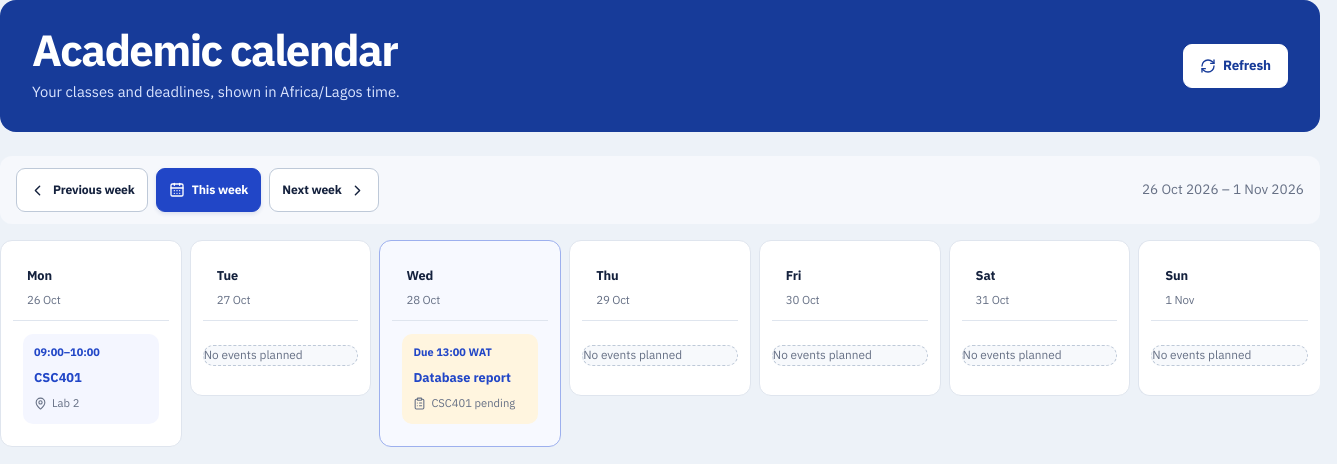
shows recurring classes and deadlines together and navigates weeks
Expected: the link "Database report" is shown, [413, 366, 511, 390]
Expected: the text "Lab 2" is shown, [34, 396, 79, 410]
Click the button "Next week": point(324, 190) [269, 168, 379, 212]
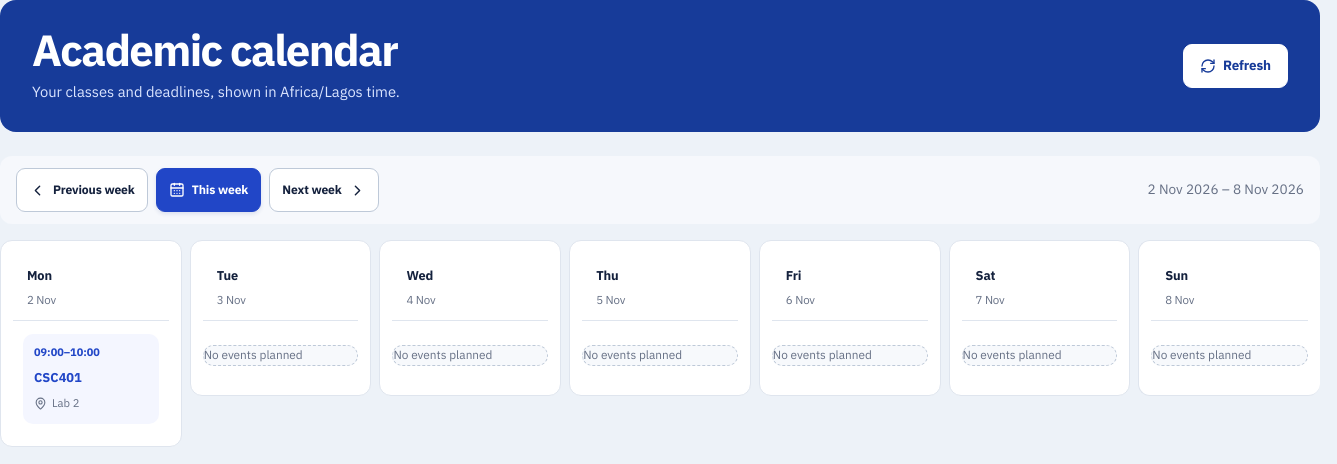
Expected: the text "Lab 2" is shown, [34, 396, 79, 410]
Now the link "Database report" is gone
Click the button "This week": point(208, 190) [156, 168, 261, 212]
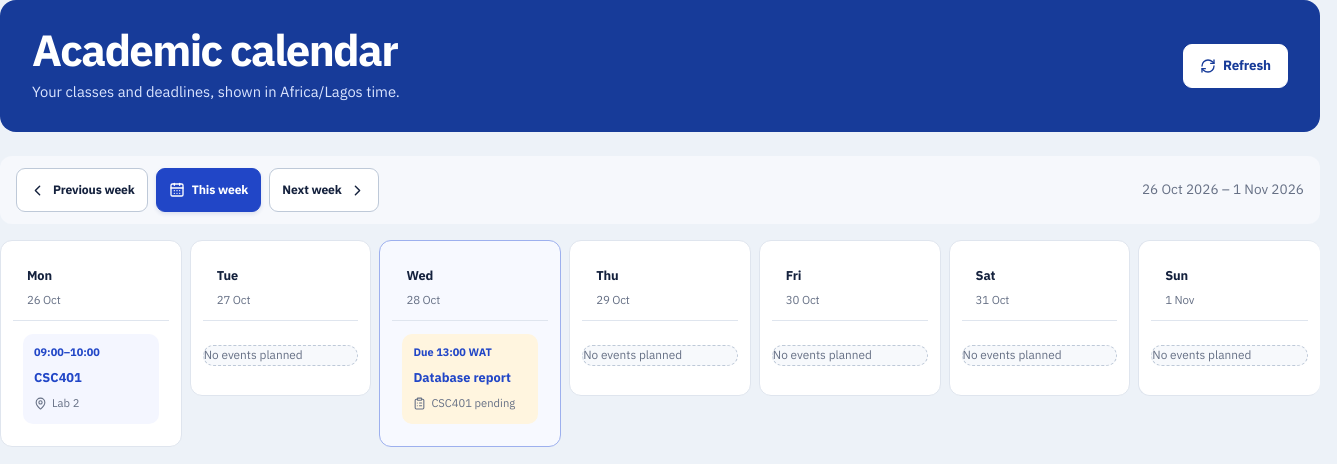
Now the link "Database report" is shown, box [413, 366, 511, 390]
